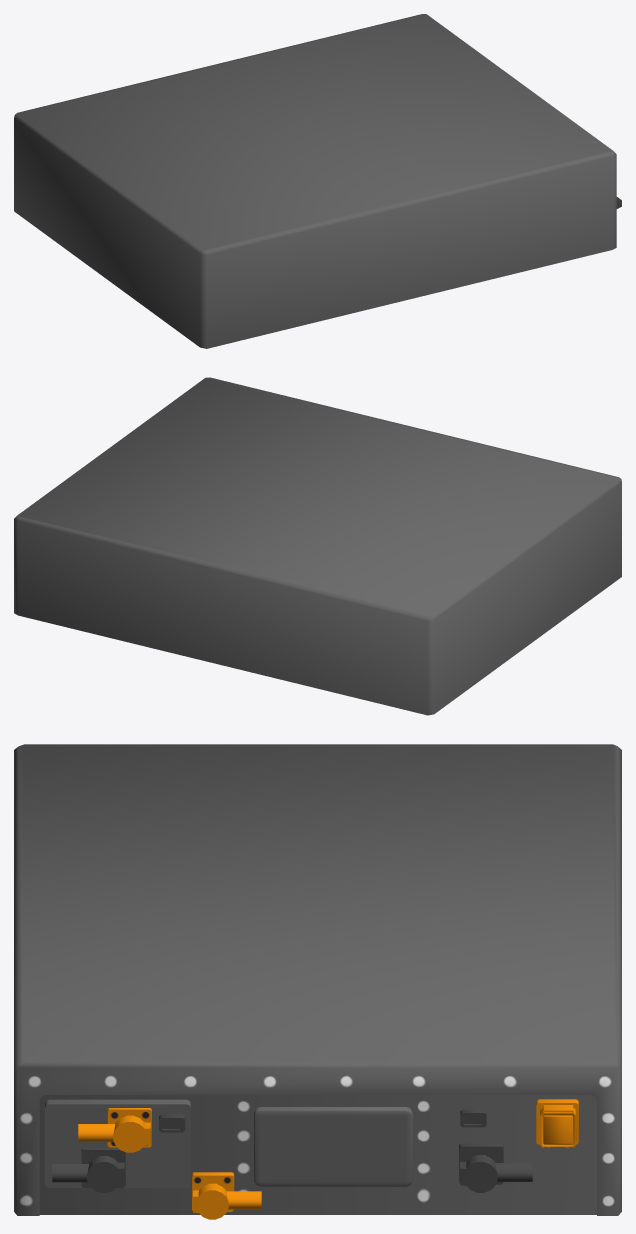
3 views of the same model, one above another, from view 1: azimuth 30°, elevation 25°; view 2: azimuth 150°, elevation 25°; view 3: azimuth 270°, elevation 25° (orthographic). The views are drawn at different scales.
Visible parts, largest first — view 1: PS01; view 2: PS01; view 3: PS01.
Part boxes in pixels (box(x1,y1,x2,y2)): PS01: box(14, 14, 621, 348); PS01: box(14, 377, 621, 715); PS01: box(14, 744, 621, 1219).
Bounding box in the file's own units: 0.9564 × 0.204 × 0.7346.
1 material, 1 textured.
